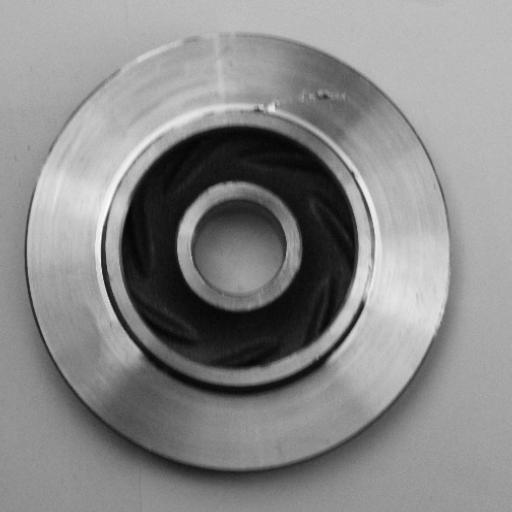crack: (252, 74, 357, 129)
scratch: (355, 236, 385, 315)
unpolished_casting: (24, 30, 457, 482)
